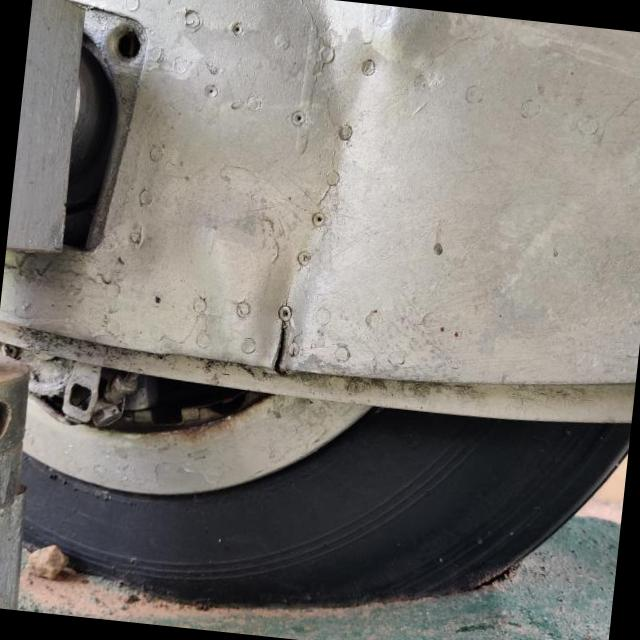Crack: (274, 312, 297, 371)
